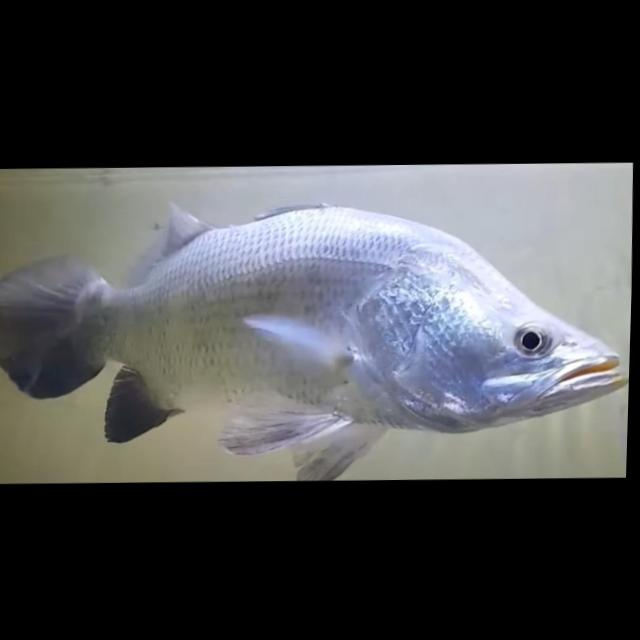Seabass: (0, 186, 634, 488)
